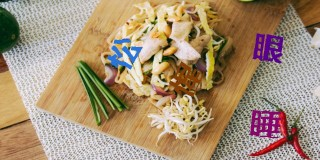忪: (107, 37, 143, 69)
惺: (169, 62, 204, 96)
眼: (253, 32, 285, 64)
睡: (250, 109, 283, 140)
